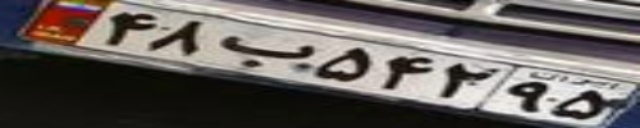2: (443, 61, 499, 102)
4: (105, 10, 154, 50), (383, 52, 432, 91)
5: (316, 41, 371, 83), (551, 85, 611, 119)
8: (153, 11, 201, 56)
9: (503, 79, 546, 112)
be: (218, 34, 314, 68)
